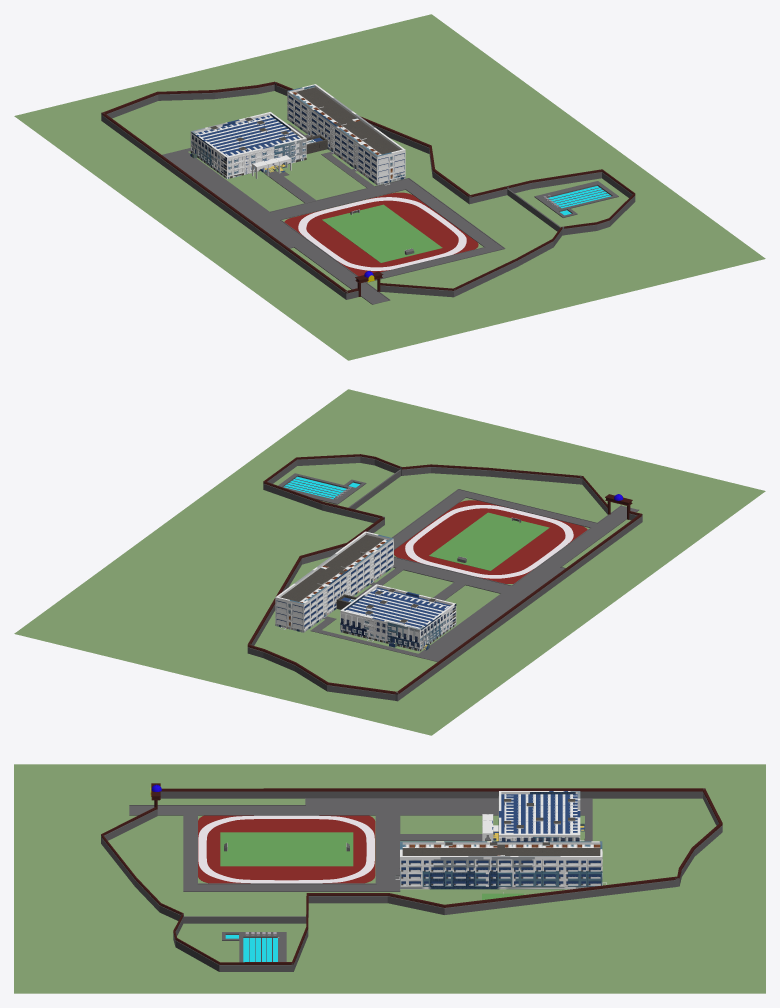
Rendered from Sekolah Baru - ManuallyColored.fbx.
3 views of the same model, one above another, from view 1: azimuth 30°, elevation 25°; view 2: azimuth 150°, elevation 25°; view 3: azimuth 270°, elevation 25° (orthographic). The views are drawn at different scales.
Visible parts, largest first — view 1: Tanah, Jalur siswa, Tembok, Object_4, Object_7, Lap. Bola, Lap. Bola.009, Garis 1, Track lari, Garis 2, Garis 3, Pinggiran kolam (+1 smaller); view 2: Tanah, Jalur siswa, Tembok, Object_4, Object_7, Lap. Bola, Lap. Bola.009, Garis 1, Track lari, Garis 2, Garis 3, Air kolam (+1 smaller); view 3: Tanah, Jalur siswa, Object_4, Tembok, Lap. Bola, Lap. Bola.009, Object_7, Garis 1, Track lari, Garis 3, Garis 2, Air kolam (+5 smaller).
Part boxes in pixels (<box>): Tanah: <box>14,14,765,360</box>; Jalur siswa: <box>162,149,505,304</box>; Tembok: <box>101,82,635,299</box>; Object_4: <box>287,84,405,185</box>; Object_7: <box>190,112,306,178</box>; Lap. Bola: <box>284,192,478,276</box>; Lap. Bola.009: <box>322,204,442,262</box>; Garis 1: <box>101,81,635,292</box>; Track lari: <box>298,197,466,270</box>; Garis 2: <box>101,83,635,292</box>; Garis 3: <box>101,84,635,293</box>; Pinggiran kolam: <box>534,181,618,217</box>; Tanah: <box>14,389,765,735</box>; Jalur siswa: <box>392,489,638,661</box>; Tembok: <box>247,456,642,701</box>; Object_4: <box>275,531,393,632</box>; Object_7: <box>340,584,456,651</box>; Lap. Bola: <box>394,500,587,583</box>; Lap. Bola.009: <box>429,512,549,570</box>; Garis 1: <box>247,454,642,693</box>; Track lari: <box>405,505,573,578</box>; Garis 2: <box>248,455,641,693</box>; Garis 3: <box>248,456,641,694</box>; Air kolam: <box>284,476,359,499</box>; Tanah: <box>14,764,765,993</box>; Jalur siswa: <box>129,798,592,891</box>; Object_4: <box>400,841,602,889</box>; Tembok: <box>101,788,722,971</box>; Lap. Bola: <box>198,815,375,883</box>; Lap. Bola.009: <box>220,832,353,866</box>; Object_7: <box>498,791,580,841</box>; Garis 1: <box>101,788,722,963</box>; Track lari: <box>198,815,374,883</box>; Garis 3: <box>101,790,722,964</box>; Garis 2: <box>102,790,722,963</box>; Air kolam: <box>225,935,277,962</box>.
Bounding box in the file's own units: 20225 × 1696 × 28041.
53 materials, 6 textured.
